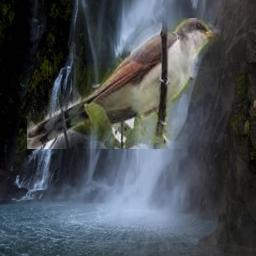Cuckoo: (27, 18, 225, 149)
